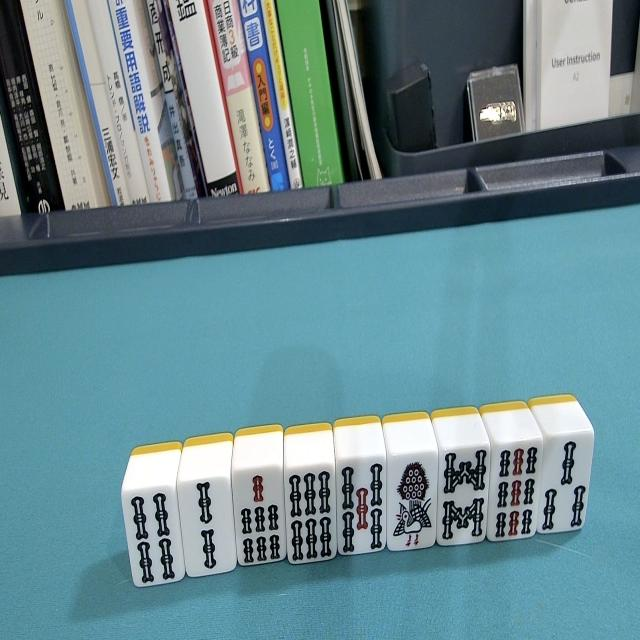1_sou: (382, 408, 440, 562)
2_sou: (176, 428, 238, 588)
3_sou: (533, 392, 595, 548)
4_sou: (122, 437, 185, 599)
5_sou: (331, 411, 389, 565)
6_sou: (281, 422, 339, 578)
7_sou: (230, 423, 288, 578)
8_sou: (432, 401, 489, 557)
9_sou: (482, 397, 540, 552)
